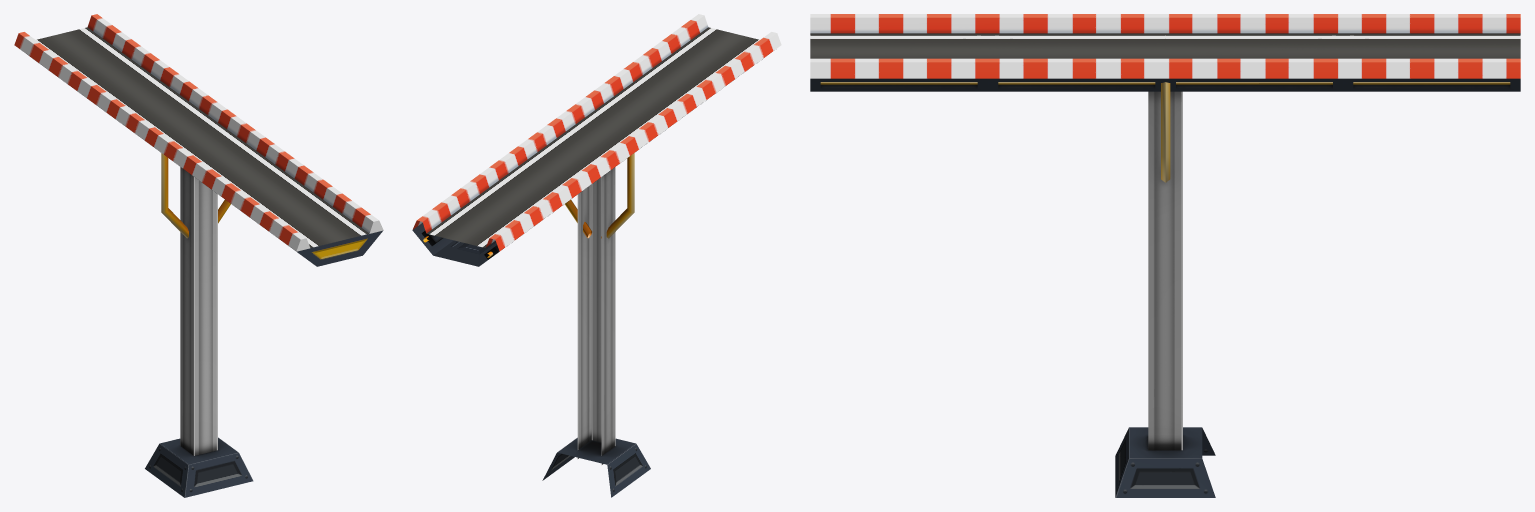
Rendered from Second_Path.fbx.
3 renders of one model, left to right at view 1: azimuth 30°, elevation 25°; view 2: azimuth 150°, elevation 25°; view 3: azimuth 270°, elevation 25°, orthographic. The views are drawn at different scales.
Visible parts, largest first — view 1: Second_Path; view 2: Second_Path; view 3: Second_Path.
Part boxes in pixels (bbox=[...]): Second_Path: bbox=[14, 14, 383, 497]; Second_Path: bbox=[412, 14, 781, 497]; Second_Path: bbox=[810, 14, 1520, 497].
Size of the model in its own units: 548 by 2088 by 3066.
